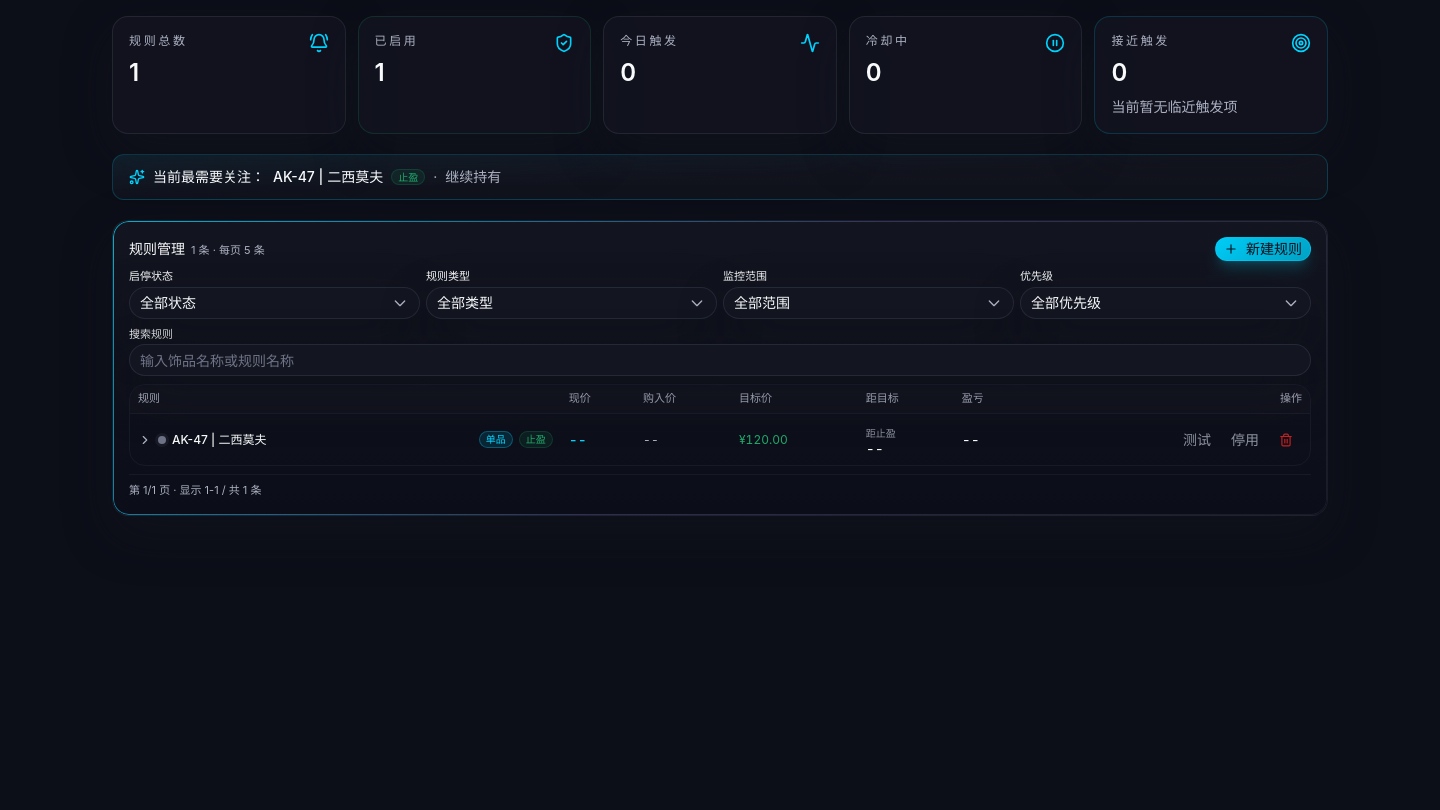
it: AlertsPage › creates a CS rule through the page form and reloads rules
Expected: the text "AK-47 | 二西莫夫" in the row of "¥120.00" is shown, [172, 432, 266, 447]
Click the button "新建规则".
click(1263, 249)  # box [1215, 237, 1311, 261]
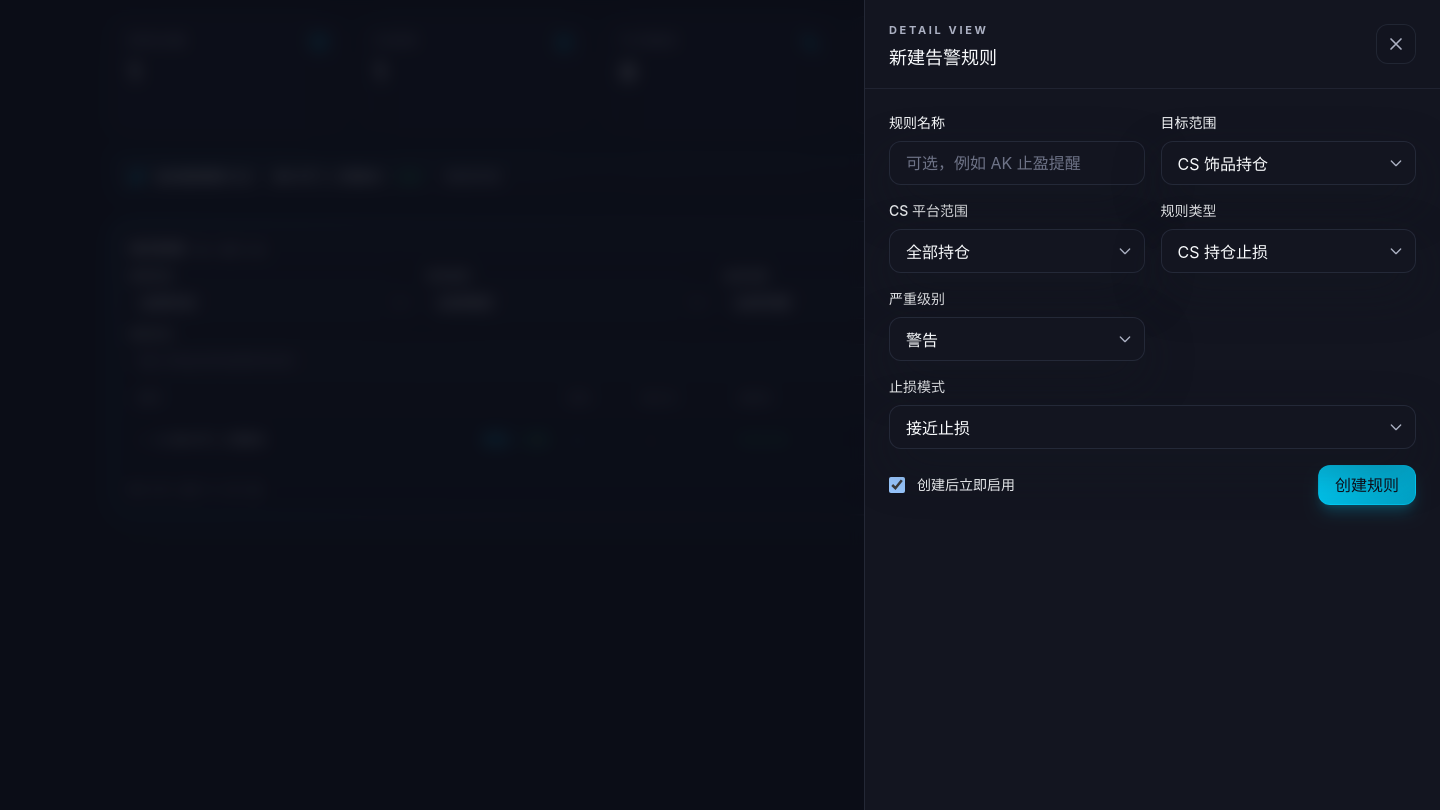
Expected: the dialog "新建告警规则" is shown, [864, 0, 1439, 809]
Select "CS 单饰品" in the dropdown labelled "目标范围" at (1288, 163), box [1160, 141, 1416, 185]
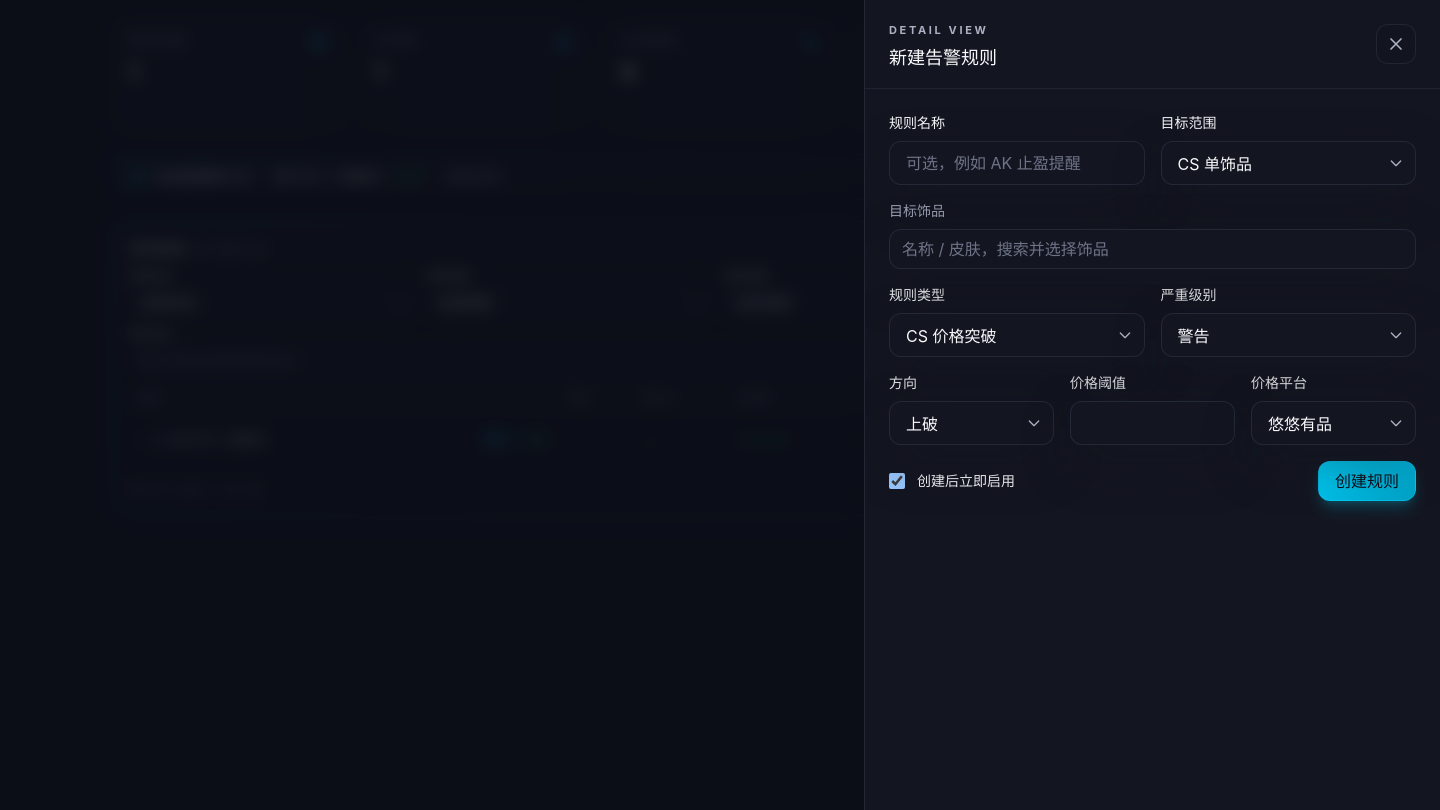
Type "AK" into the dropdown named "目标饰品".
click(1152, 249); type("AK")  # box [889, 229, 1416, 269]
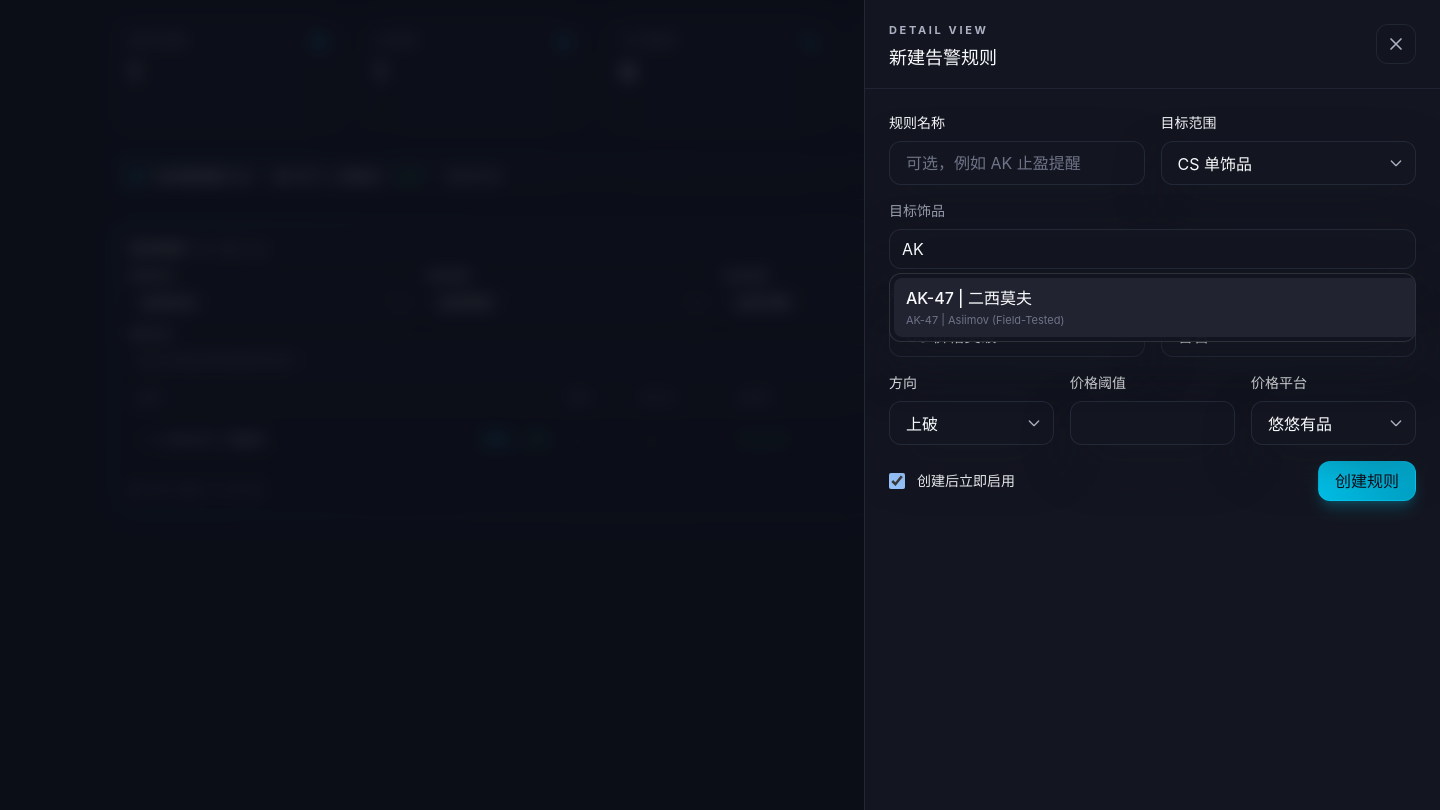
Click the text "AK-47 | 二西莫夫".
click(969, 298)  # box [906, 286, 1032, 310]
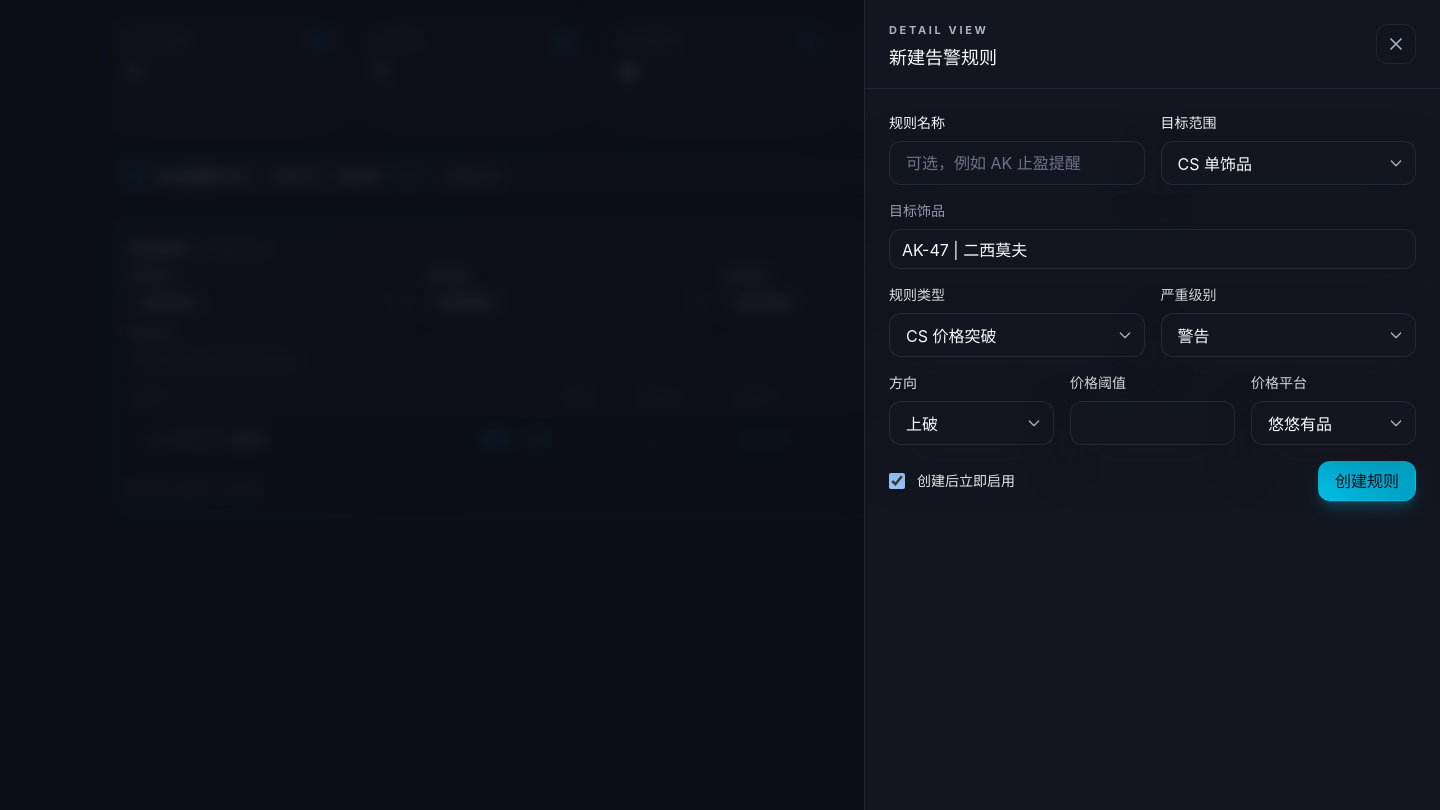
Type "200" into the number field labelled "价格阈值".
click(1152, 423); type("200")  # box [1070, 401, 1235, 445]
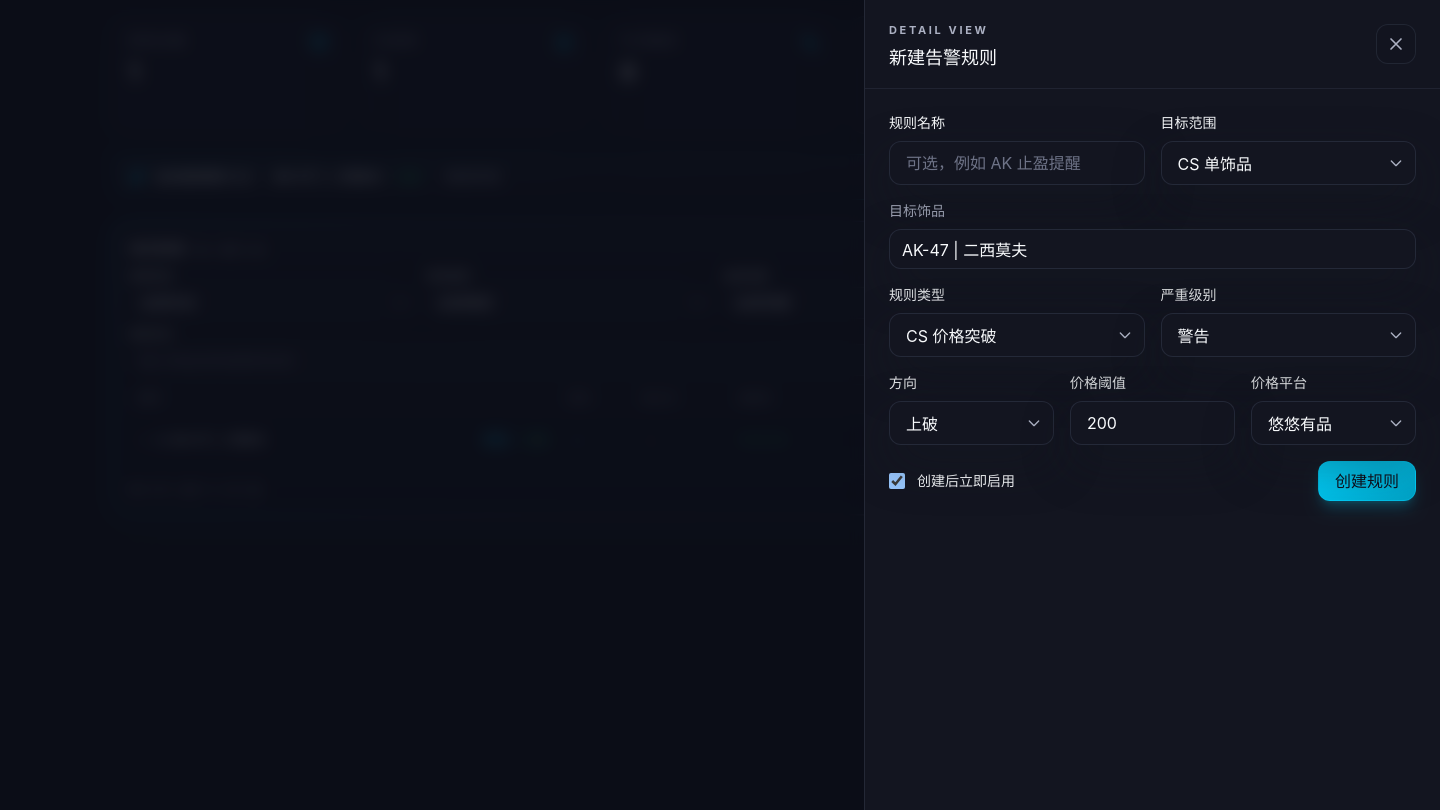
Click the button "创建规则".
click(1367, 481)  # box [1318, 461, 1416, 501]
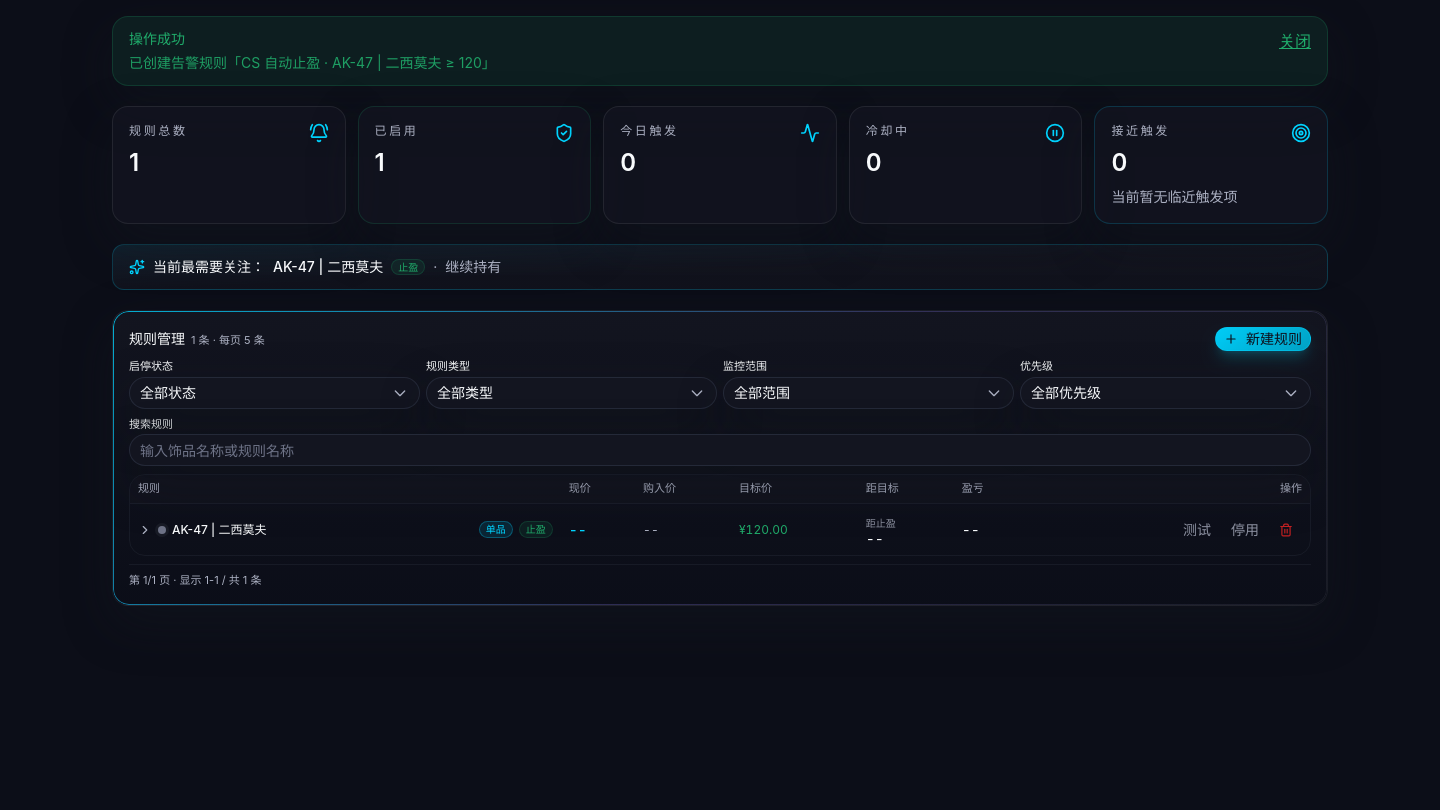
Expected: the text "已创建告警规则「CS 自动止盈 · AK-47 | 二西莫夫 ≥ 120」" is shown, [129, 53, 496, 73]
